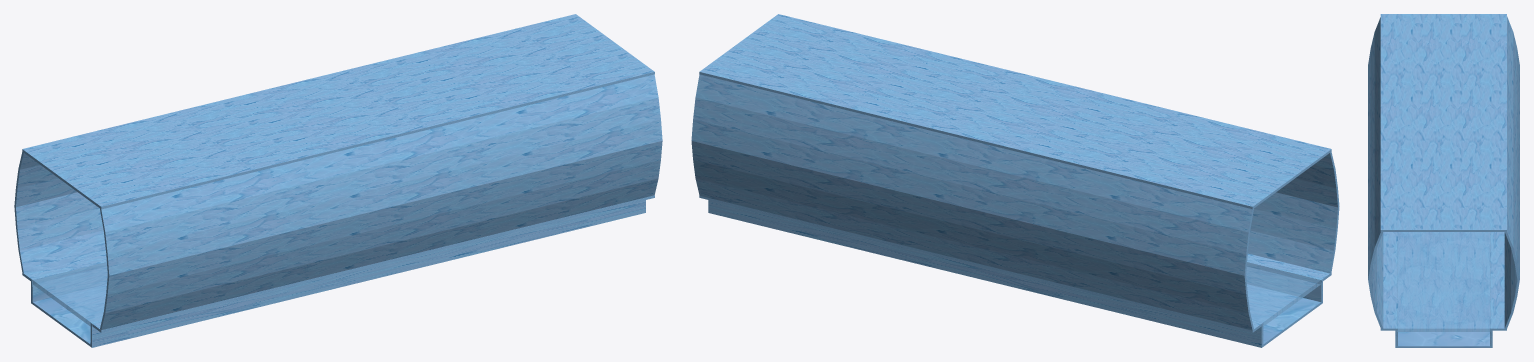
The model's file is Water Tunnel Exit.fbx.
3 views of the same model, side by side, from view 1: azimuth 30°, elevation 25°; view 2: azimuth 150°, elevation 25°; view 3: azimuth 270°, elevation 25° (orthographic). The views are drawn at different scales.
Visible parts, largest first — view 1: Tunnel Roof.003; view 2: Tunnel Roof.003; view 3: Tunnel Roof.003.
Boxes of the visible parts, bbox=[...] form: Tunnel Roof.003: bbox=[14, 14, 662, 347]; Tunnel Roof.003: bbox=[691, 14, 1339, 347]; Tunnel Roof.003: bbox=[1368, 14, 1519, 347].
Size of the model in its own units: 1185 by 1017 by 3993.
